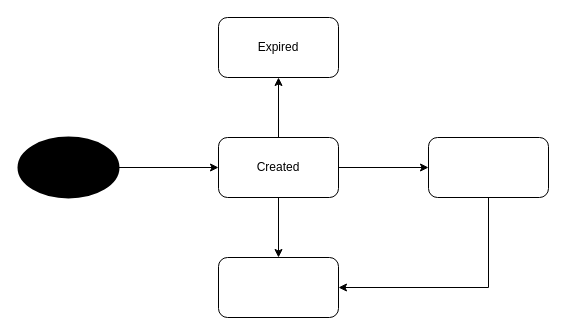
This 566x335 diagram has some shape labels left out. Here are the shapes that lost their labels. From the top down, the box of each, then its label:
(428, 136, 548, 198): Confirmed
(218, 256, 338, 318): Cancelled
